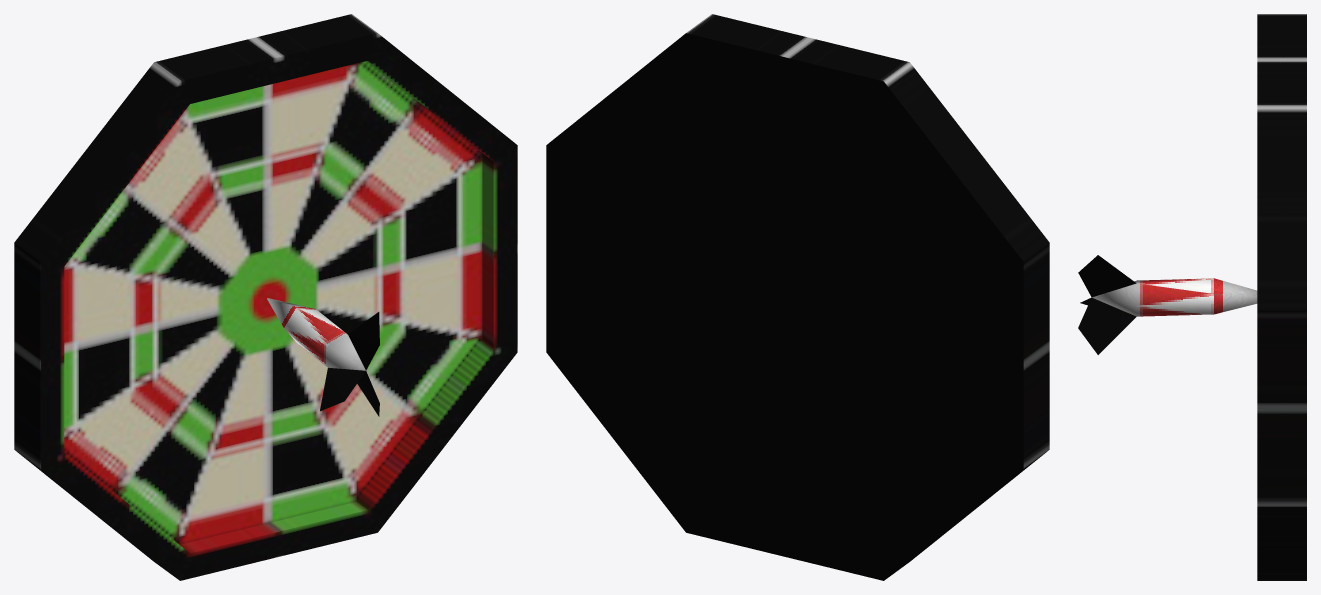
The model's file is dart_board_and_dart.fbx.
3 views of the same model, side by side, from view 1: azimuth 30°, elevation 25°; view 2: azimuth 150°, elevation 25°; view 3: azimuth 270°, elevation 25° (orthographic). The views are drawn at different scales.
Visible parts, largest first — view 1: DartBoard, Dart; view 2: DartBoard; view 3: DartBoard, Dart.
Part boxes in pixels (x1,y1,x2,y2): DartBoard: (14, 14, 517, 580); Dart: (267, 298, 379, 416); DartBoard: (546, 14, 1049, 580); DartBoard: (1257, 14, 1306, 580); Dart: (1078, 255, 1257, 354).
Size of the model in its own units: 20537 by 20537 by 8965.
Materials: 2 (2 with a texture image).
